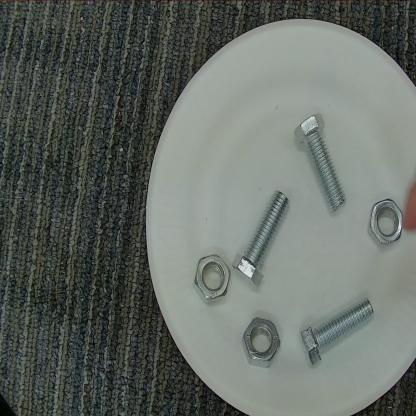FOD: (230, 182, 295, 296), (295, 289, 377, 372), (292, 106, 348, 224), (238, 313, 284, 371), (193, 250, 235, 312), (366, 193, 405, 259)
